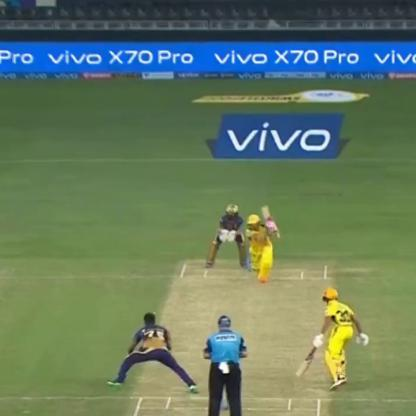bat: (253, 199, 283, 244), (291, 336, 318, 380)
pitch: (132, 254, 343, 416)
